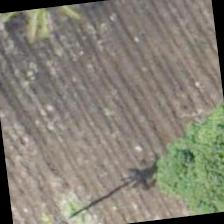Kelapa_Sawit: (8, 173, 99, 223)
